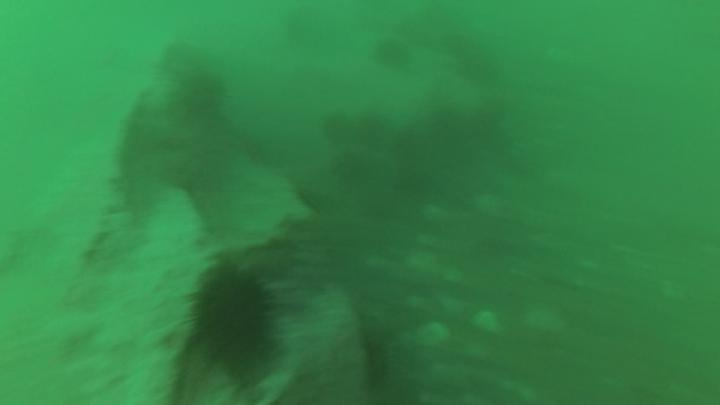echinus: (194, 273, 268, 367), (183, 75, 221, 112), (377, 43, 405, 67)
